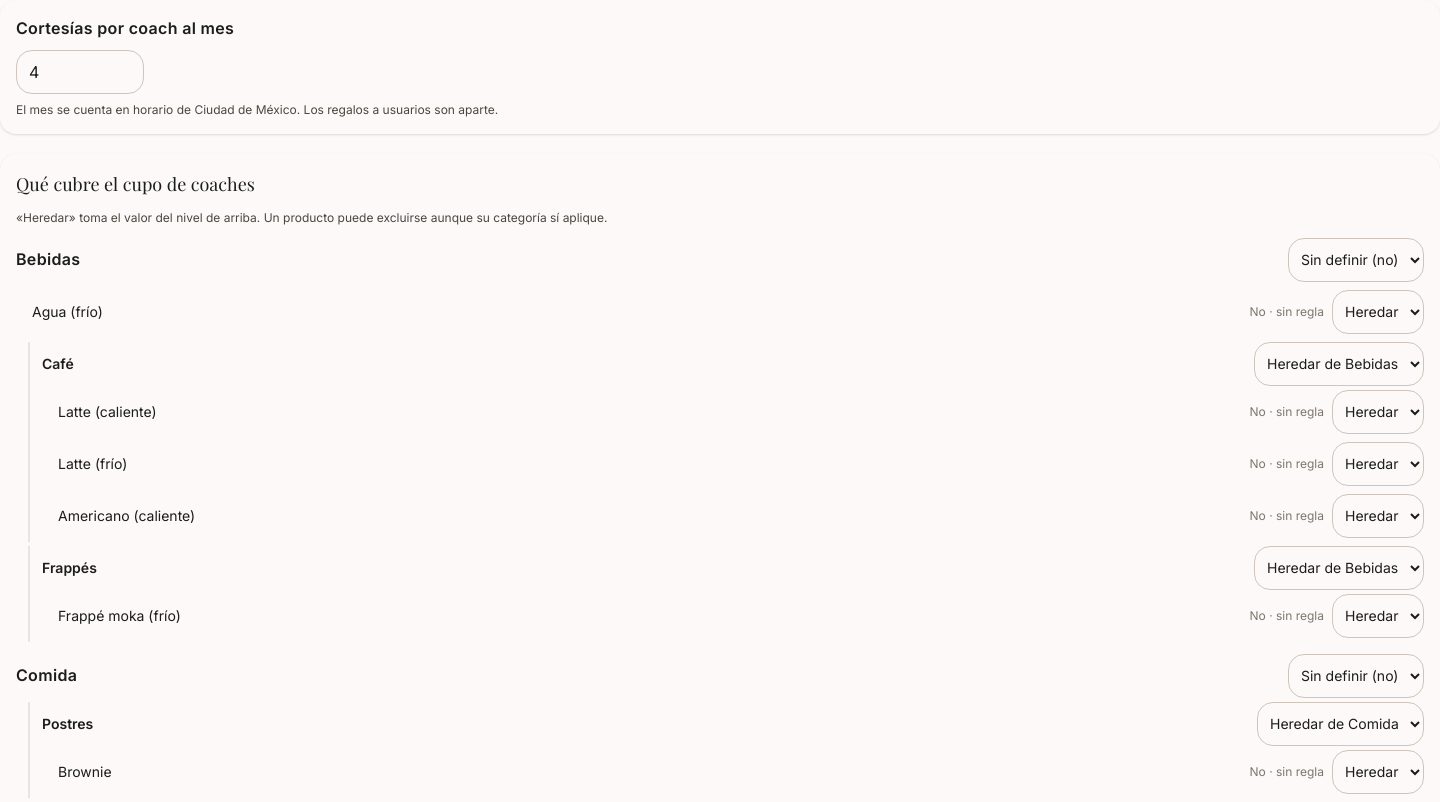
it: CourtesyRules › tri-estado por nodo y elegibilidad efectiva en vivo con su origen
Expected: the text "No · sin regla" in the row of "Latte (caliente)" is shown, [1250,404,1324,420]
Select "Sí" in the dropdown named "Cortesía de Bebidas" at x=1356, y=260, box [1288,238,1424,282]
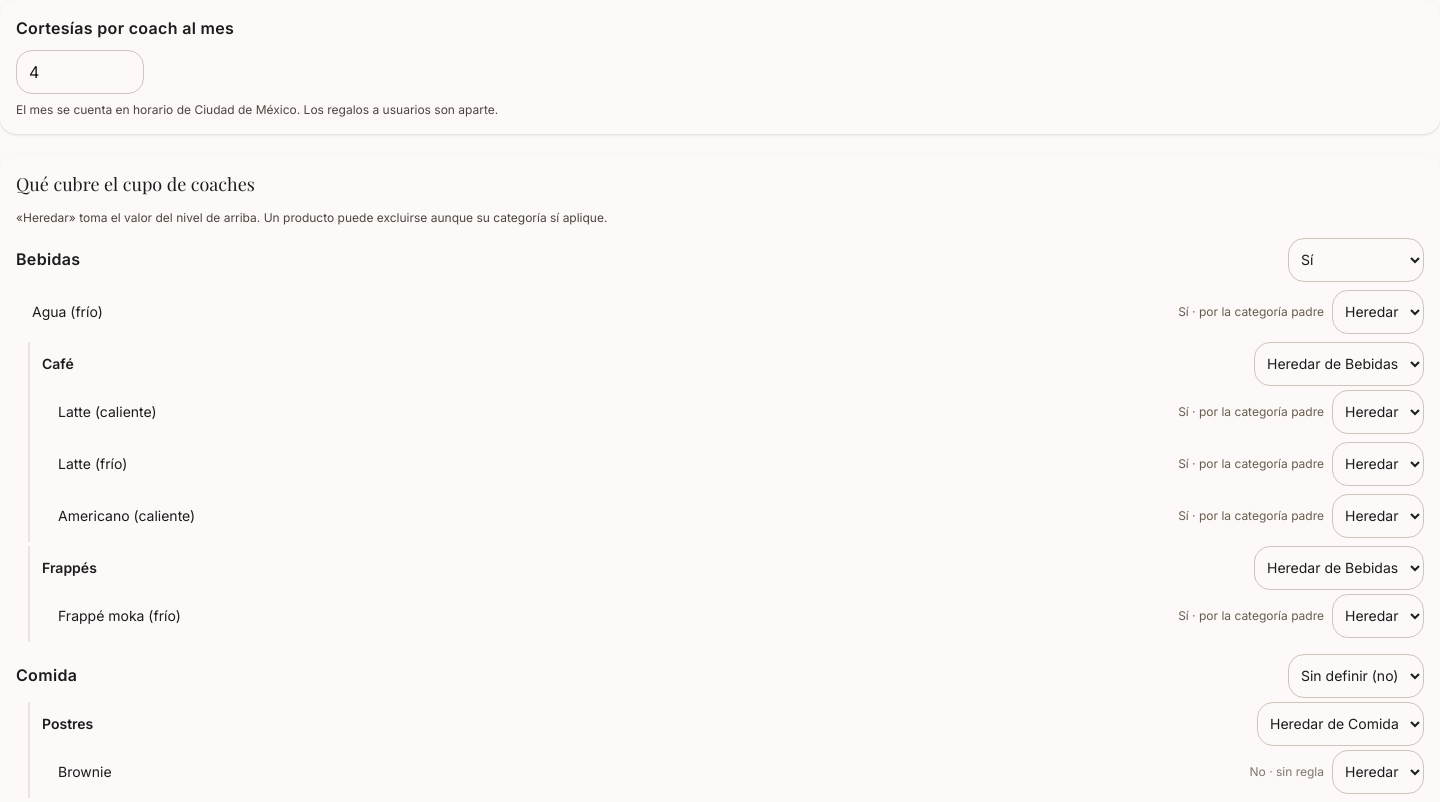
Expected: the text "Sí · por la categoría padre" in the row of "Latte (caliente)" is shown, [1178,404,1324,420]
Select "No" in the dropdown named "Cortesía de Café" at x=1339, y=364, box [1254,342,1424,386]
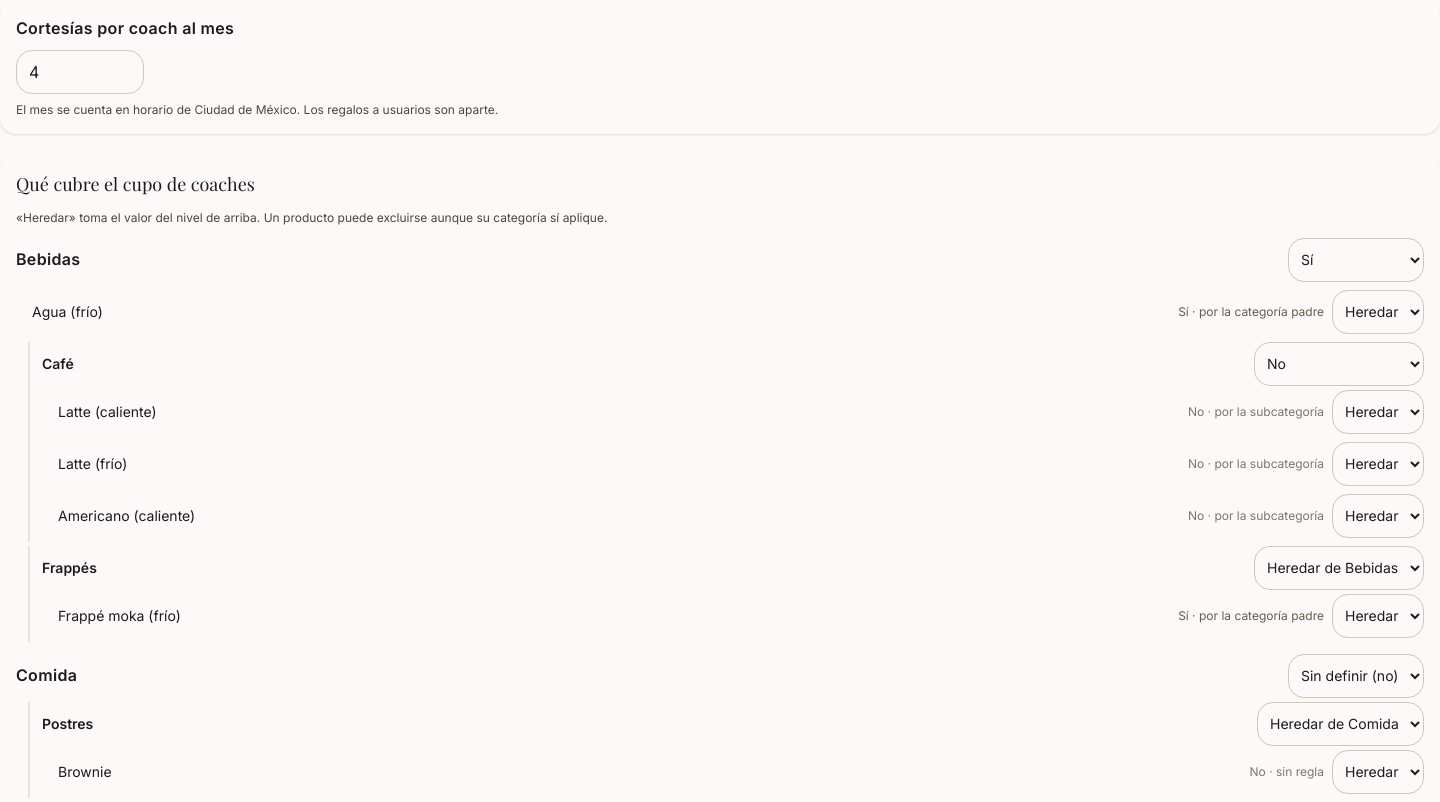
Expected: the text "No · por la subcategoría" in the row of "Latte (caliente)" is shown, [1188,404,1324,420]
Select "Sí" in the dropdown named "Cortesía de Latte (caliente)" at x=1378, y=412, box [1332,390,1424,434]
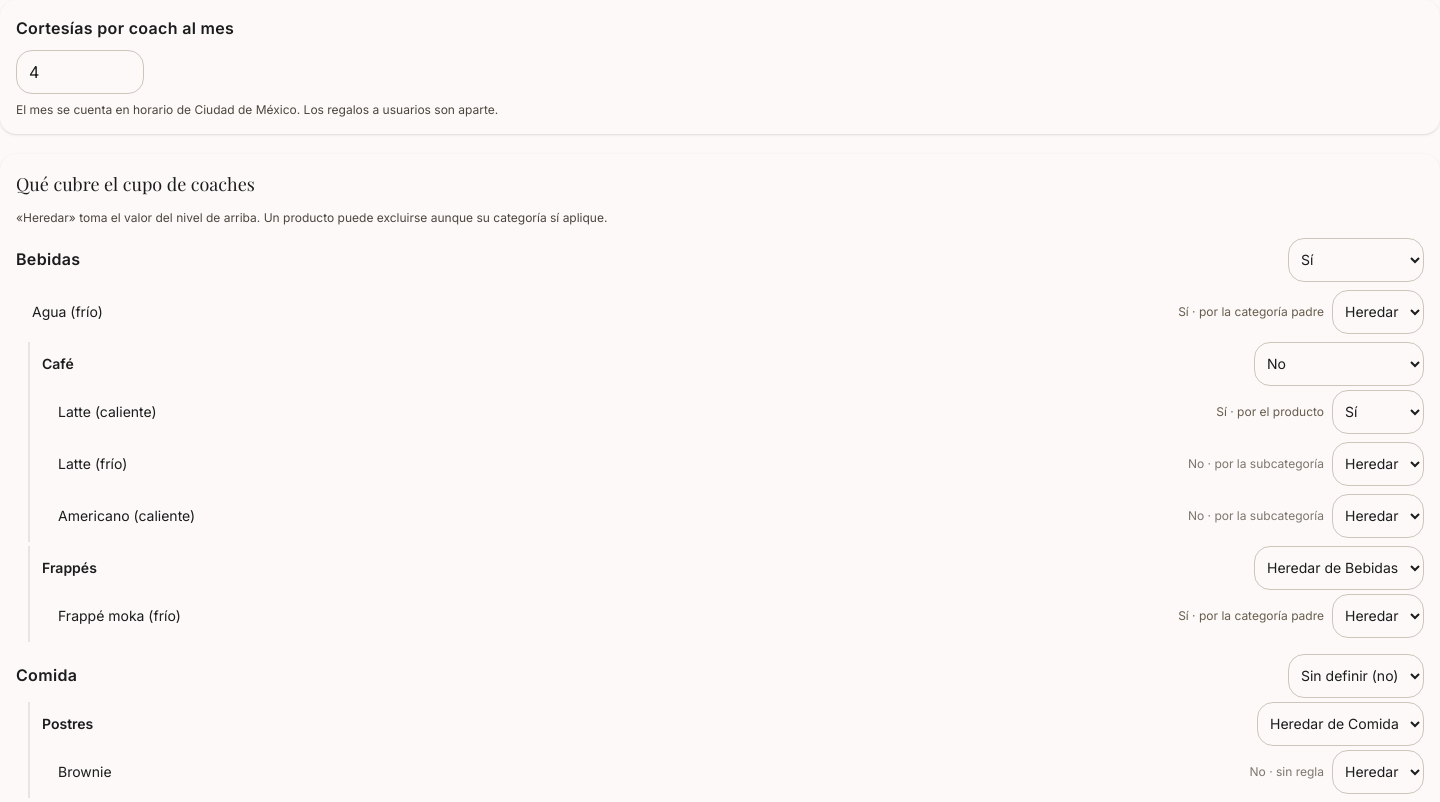
Expected: the text "Sí · por el producto" is shown, [1216,404,1324,420]
